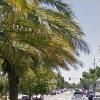Palm tree: (2, 0, 39, 98)
